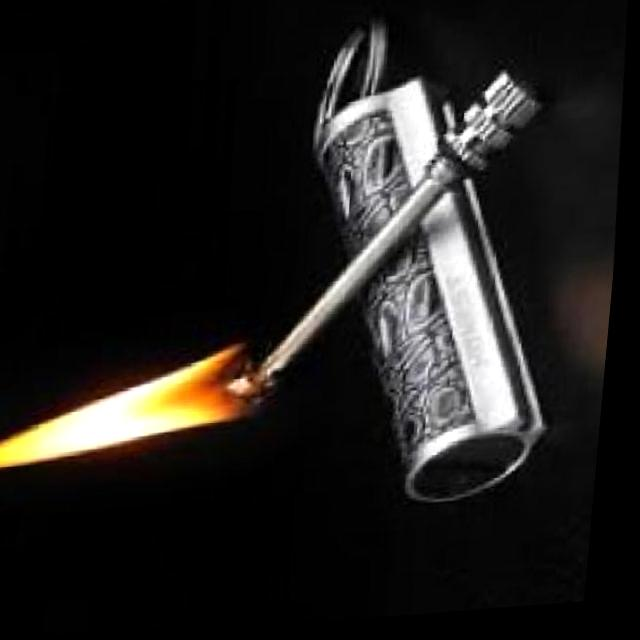fire: (0, 347, 272, 473)
